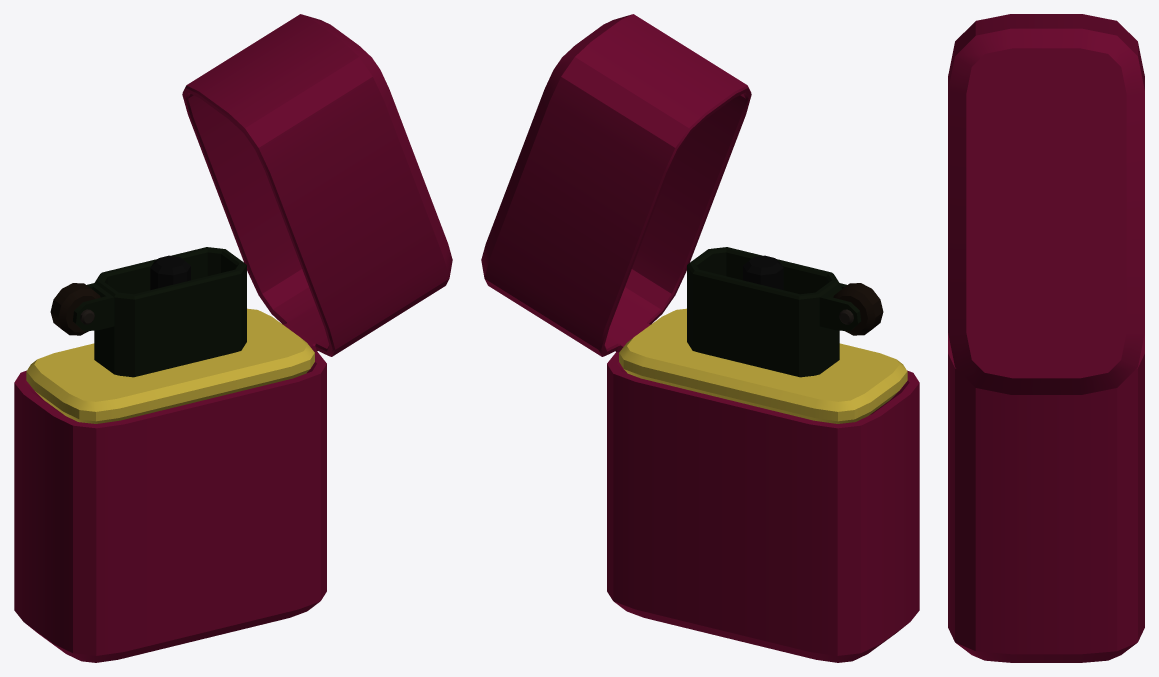
Rendered from Lighter.FBX.
3 renders of one model, left to right at view 1: azimuth 30°, elevation 25°; view 2: azimuth 150°, elevation 25°; view 3: azimuth 270°, elevation 25°, orthographic. The views are drawn at different scales.
Visible parts, largest first — view 1: Lighter; view 2: Lighter; view 3: Lighter.
Part boxes in pixels (x1,y1,x2,y2): Lighter: [14, 14, 452, 662]; Lighter: [481, 14, 919, 662]; Lighter: [948, 14, 1144, 662].
Size of the model in its own units: 936 by 341 by 1258.
